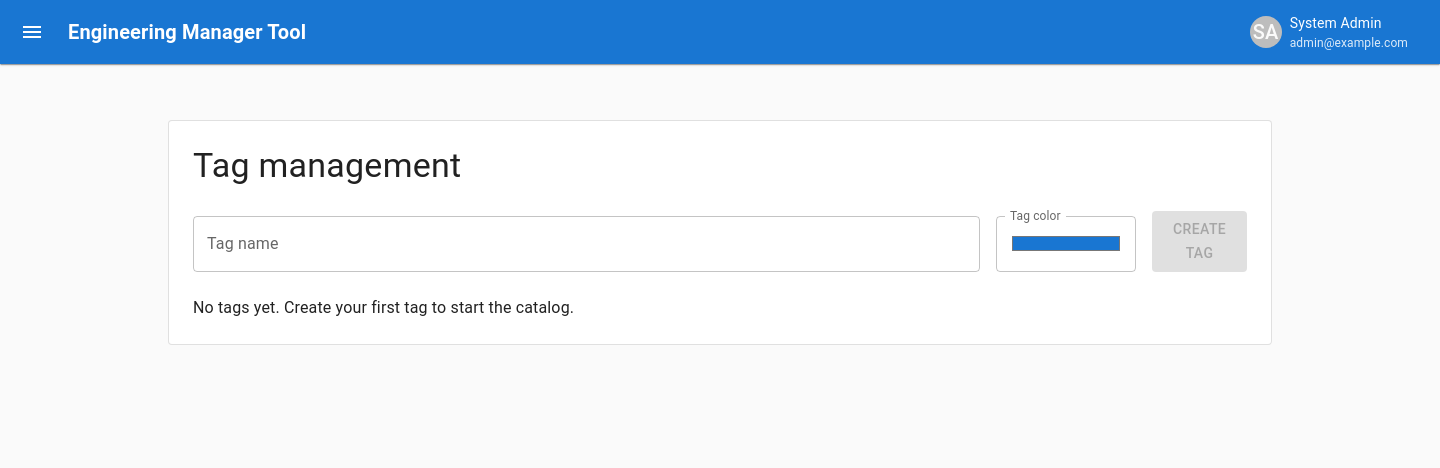
Test case: US1 admin tag creation › submits create form and renders new tag
Type "Platform" into the field labelled "Tag name" at coordinates (587, 244), box left=193, top=216, right=980, bottom=272
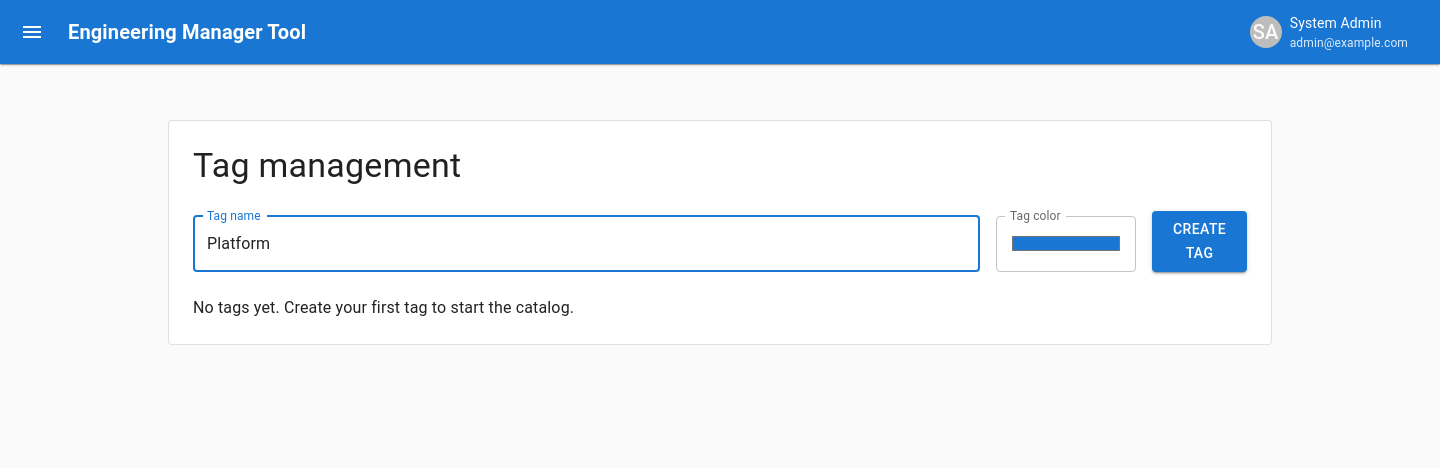
Click the button "Create tag" at coordinates (1200, 242), box left=1152, top=211, right=1247, bottom=272
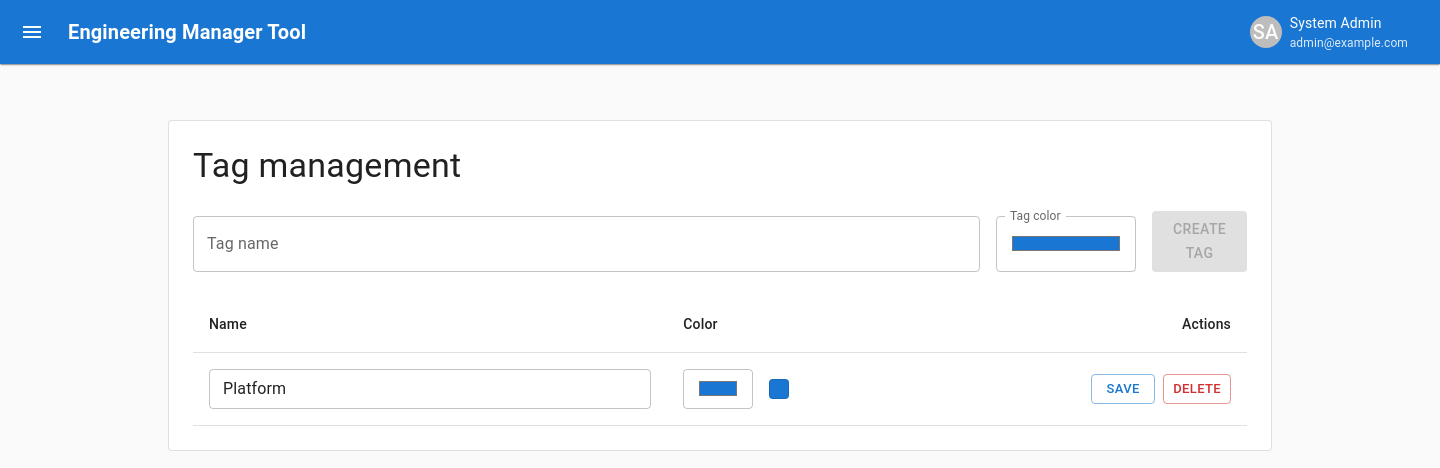
Expected: the field showing "Platform" is shown, left=209, top=369, right=651, bottom=409
